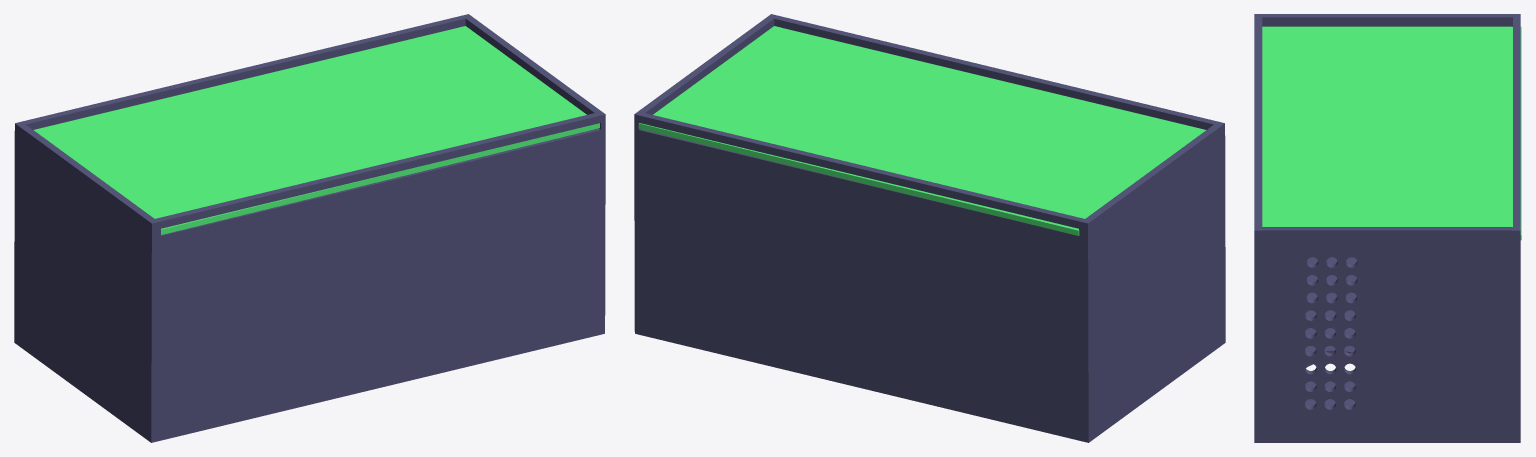
The picture shows the model from 3 angles, left to right: view 1: azimuth 30°, elevation 25°; view 2: azimuth 150°, elevation 25°; view 3: azimuth 270°, elevation 25°; orthographic projection. The views are drawn at different scales.
Parts seen in each view (by area): view 1: Body002; view 2: Body002; view 3: Body002.
Part boxes in pixels (left/top/right/bottom): Body002: left=14, top=14, right=605, bottom=442; Body002: left=634, top=14, right=1225, bottom=442; Body002: left=1254, top=14, right=1521, bottom=442.
Bounding box in the file's own units: 0.1302 × 0.0604 × 0.0683.
